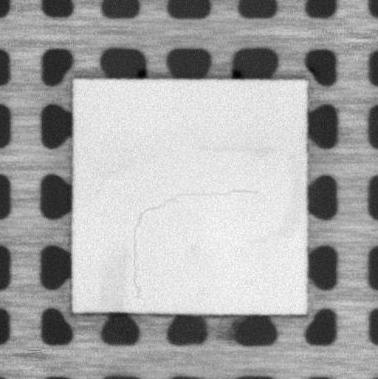DIE_CRACK: (130, 187, 261, 297)
